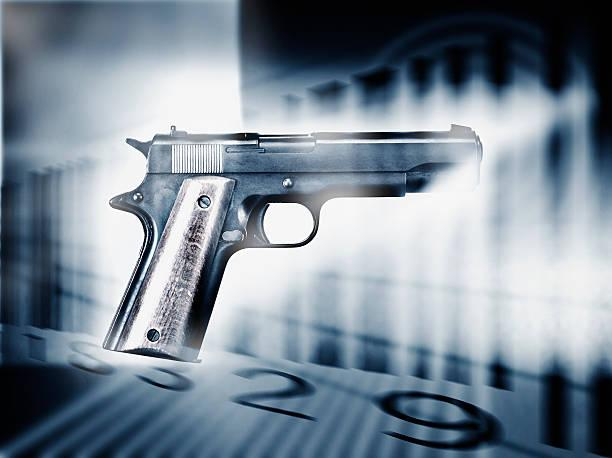weapon: (103, 132, 494, 363)
